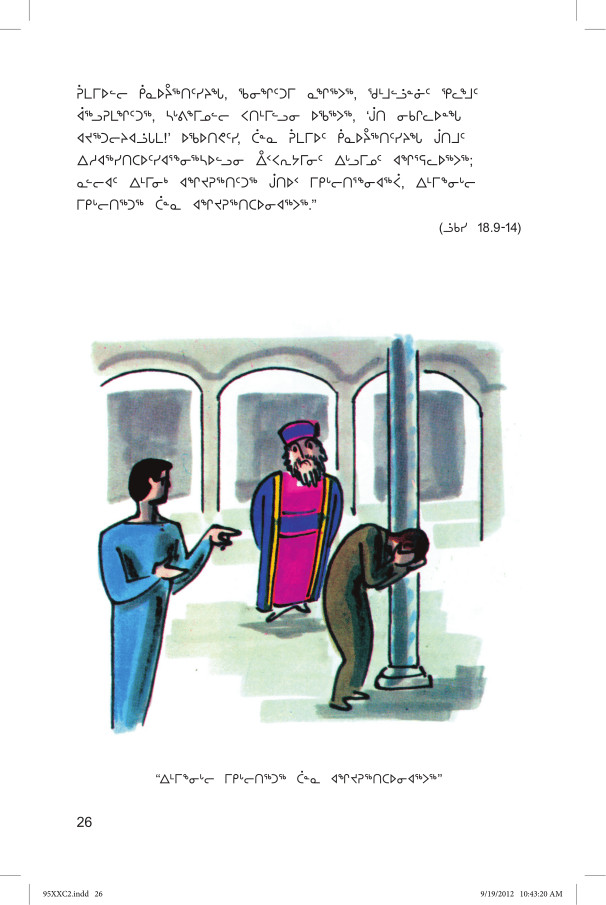inuktitut: (63, 74, 482, 214), (149, 765, 450, 791)
